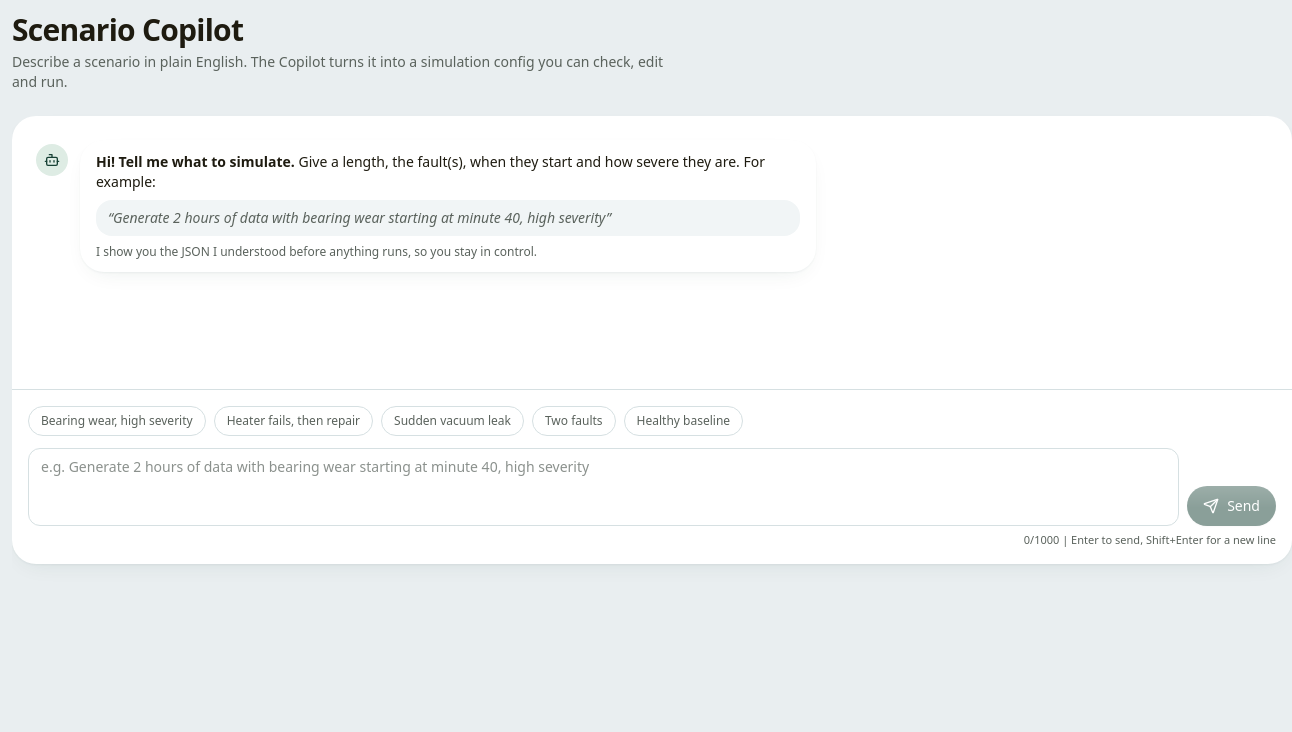
Scenario: Scenario Copilot page › shows a readable error when the parse request fails
Click the button "Healthy baseline". click: (683, 420)
box: left=624, top=406, right=743, bottom=436
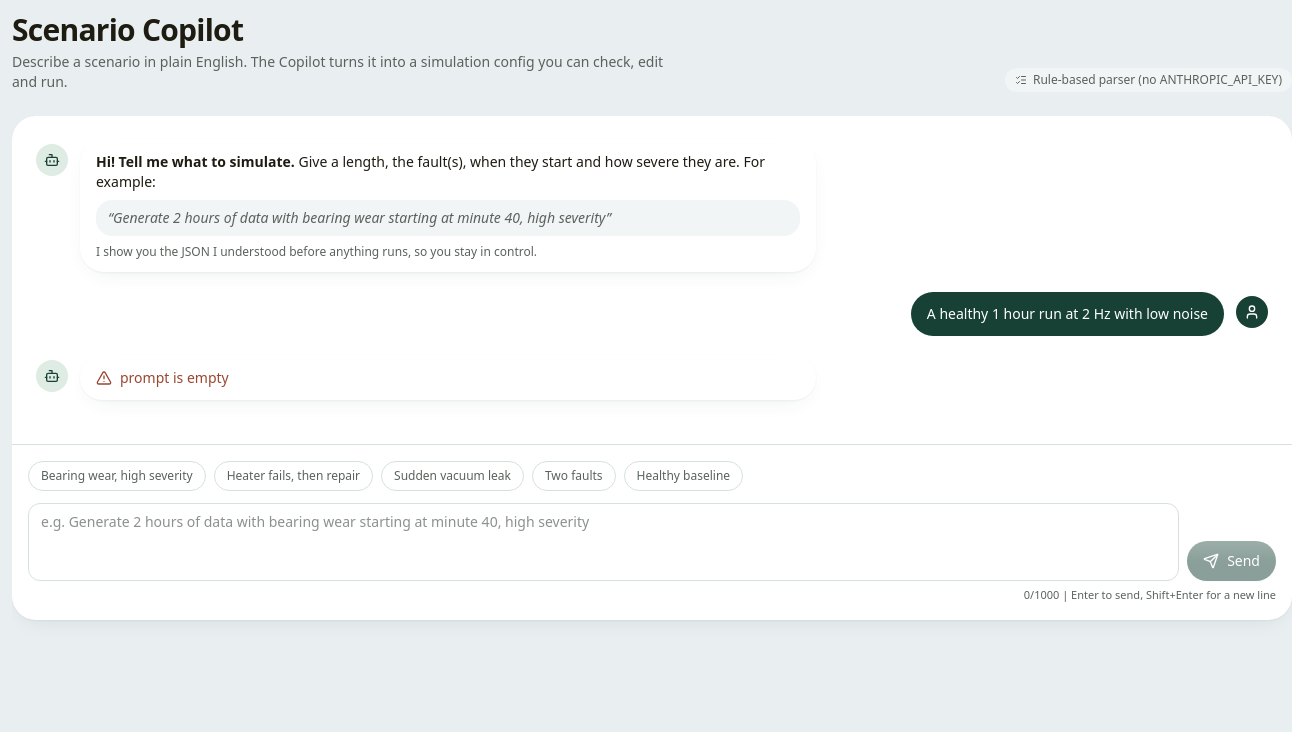
Expected: the text "prompt is empty" is shown, left=96, top=368, right=229, bottom=387
